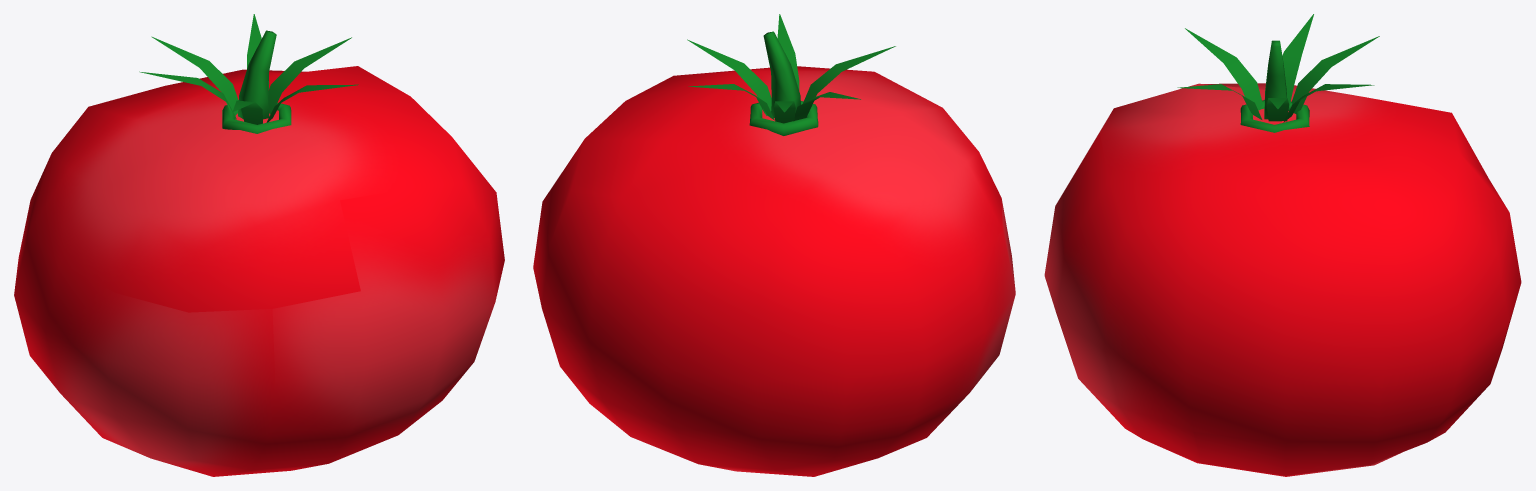
File: tomato.fbx
3 views of the same model, side by side, from view 1: azimuth 30°, elevation 25°; view 2: azimuth 150°, elevation 25°; view 3: azimuth 270°, elevation 25° (orthographic).
Parts seen in each view (by area): view 1: Cube, Cube.001; view 2: Cube, Cube.001; view 3: Cube, Cube.001.
Part boxes in pixels (x1,y1,x2,y2): Cube: [14, 66, 504, 476]; Cube.001: [139, 14, 358, 133]; Cube: [533, 66, 1015, 476]; Cube.001: [687, 14, 895, 135]; Cube: [1044, 83, 1521, 476]; Cube.001: [1177, 14, 1379, 132].
Bounding box in the file's own units: 220 × 205 × 213.
Materials: 1 (1 with a texture image).
